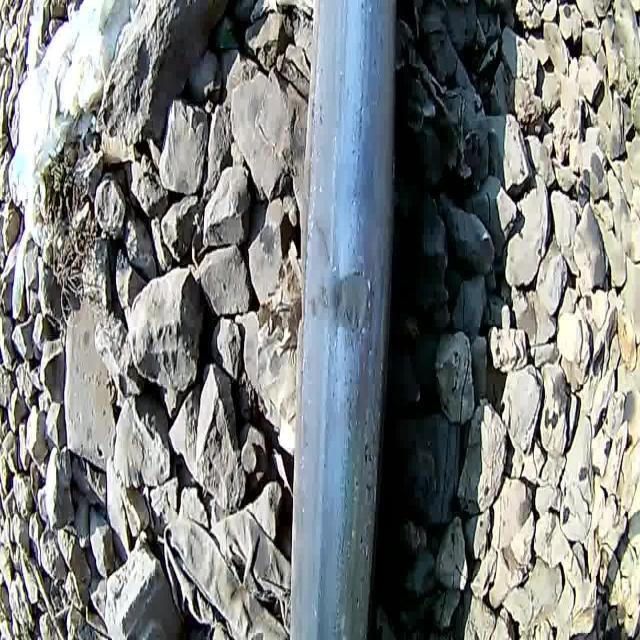Squats: (311, 257, 377, 360)
